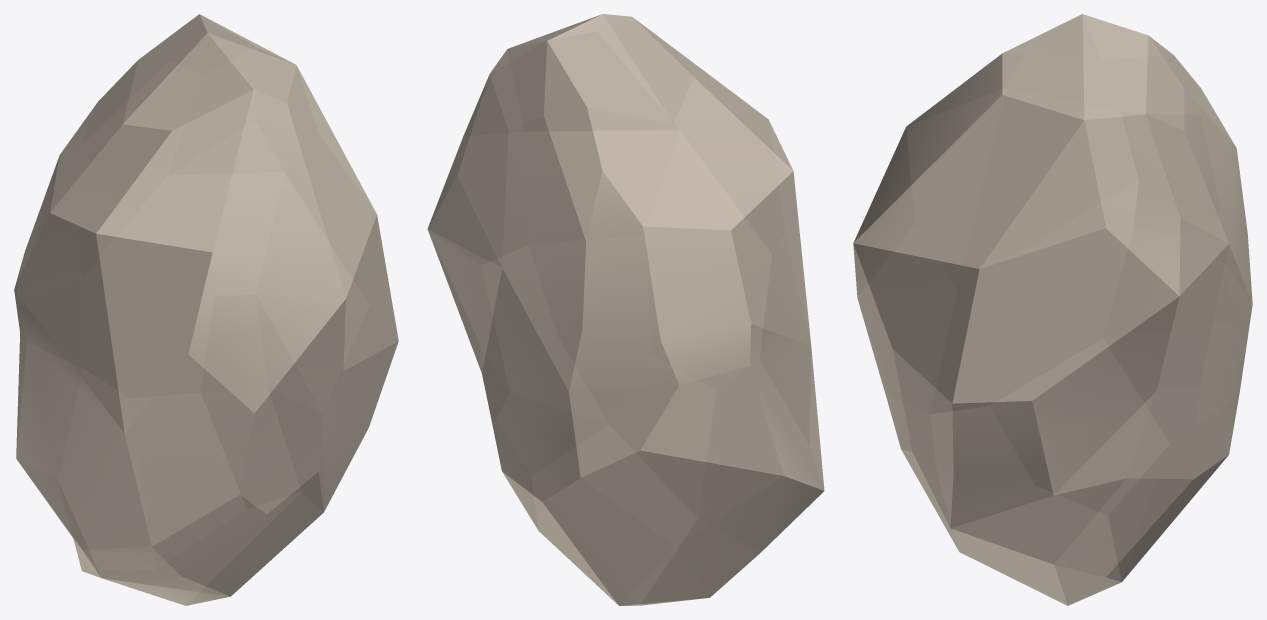
The model's file is crystal02.fbx.
3 views of the same model, side by side, from view 1: azimuth 30°, elevation 25°; view 2: azimuth 150°, elevation 25°; view 3: azimuth 270°, elevation 25° (orthographic). The views are drawn at different scales.
Parts seen in each view (by area): view 1: pCube2; view 2: pCube2; view 3: pCube2.
Part boxes in pixels (bbox=[...]): pCube2: bbox=[14, 14, 398, 605]; pCube2: bbox=[427, 14, 824, 605]; pCube2: bbox=[853, 14, 1252, 605].
Bounding box in the file's own units: 39.06 × 65.28 × 38.93.
